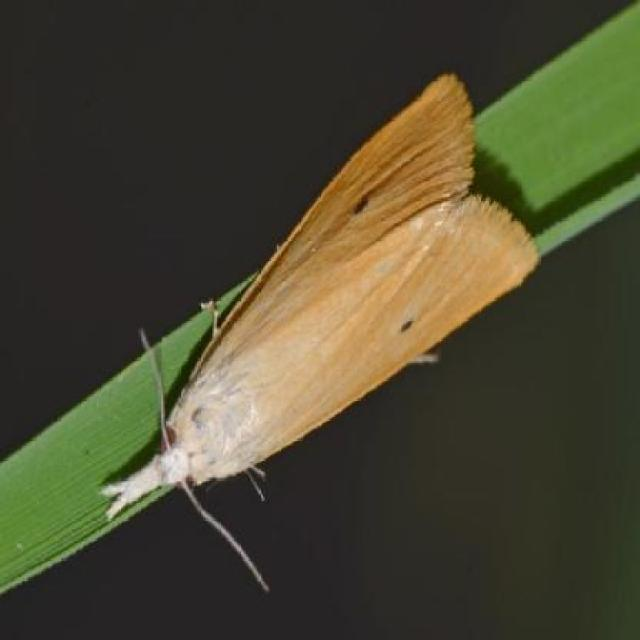stem-borer: (95, 70, 539, 598)
